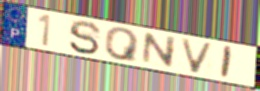1: (37, 14, 52, 49)
I: (219, 44, 235, 80)
N: (140, 32, 178, 70)
Q: (104, 27, 142, 64)
S: (68, 19, 104, 56)
V: (178, 37, 216, 75)
